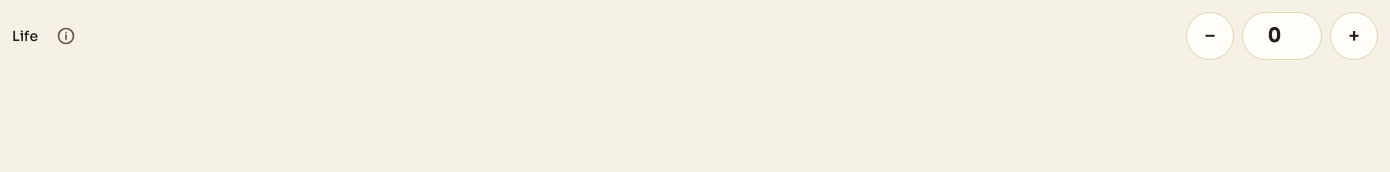
Test: FieldControl › number › folds help text behind the info toggle
Expected: the text "Starting total" is not shown
Step 1. Click the button named "About Life" → (66, 36), box [42,12,90,60]
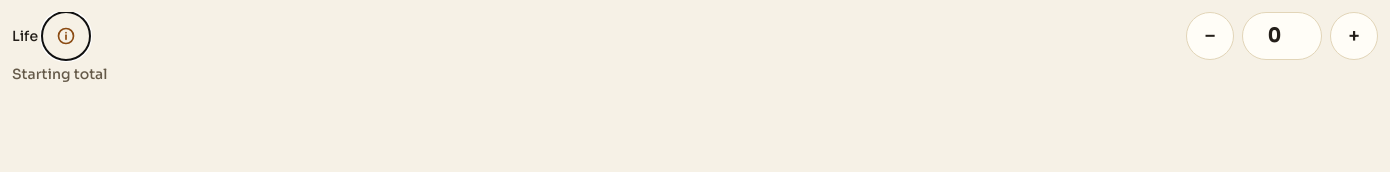
Now the text "Starting total" is shown, box [12,65,107,83]
Now the button named "About Life" is expanded
Step 2. Click the button named "About Life" → (66, 36), box [42,12,90,60]
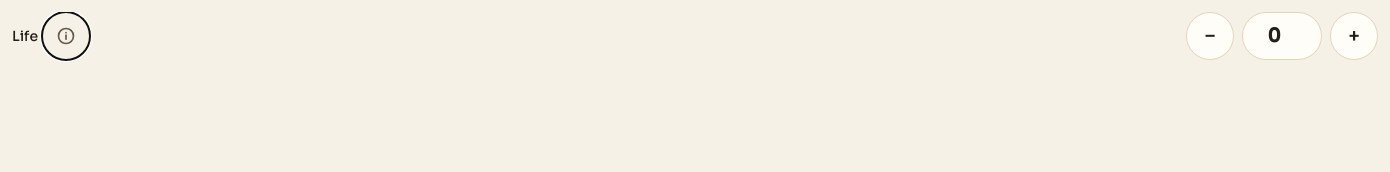
Now the text "Starting total" is gone
